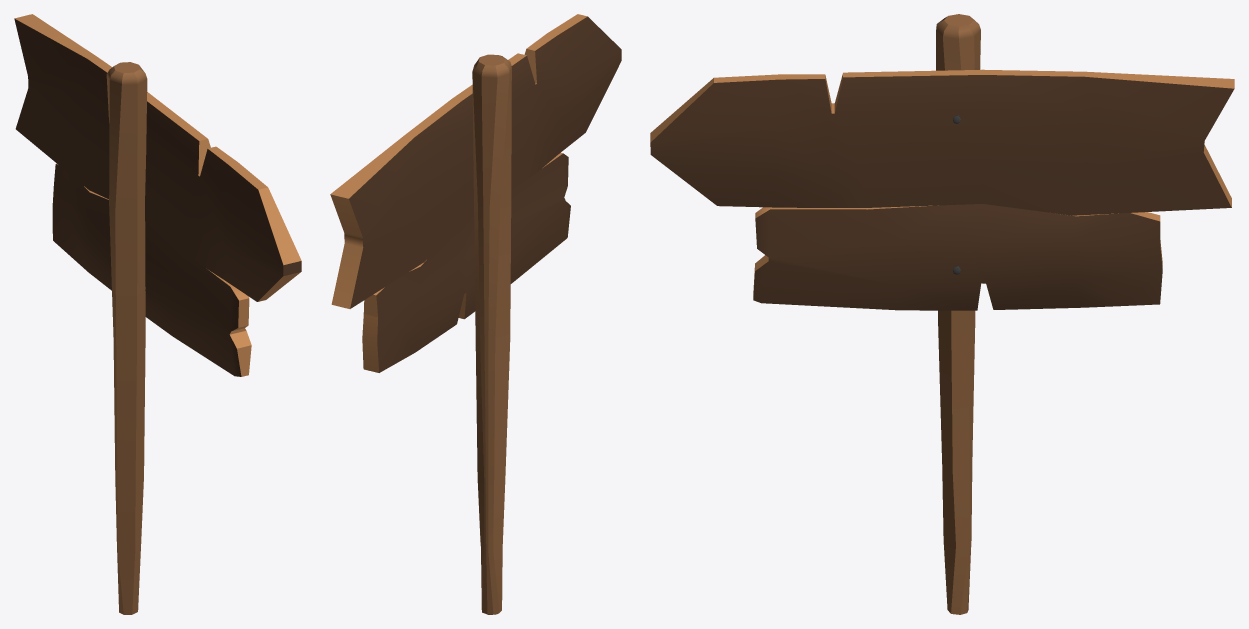
File: th_sign_03.fbx
3 views of the same model, side by side, from view 1: azimuth 30°, elevation 25°; view 2: azimuth 150°, elevation 25°; view 3: azimuth 270°, elevation 25° (orthographic). The views are drawn at different scales.
Visible parts, largest first — view 1: th_sign_03; view 2: th_sign_03; view 3: th_sign_03.
Boxes of the visible parts, left/top/right/bottom form: th_sign_03: left=14, top=14, right=301, bottom=614; th_sign_03: left=330, top=14, right=621, bottom=614; th_sign_03: left=650, top=14, right=1234, bottom=614.
Size of the model in its own units: 12.11 by 97.75 by 87.51.
